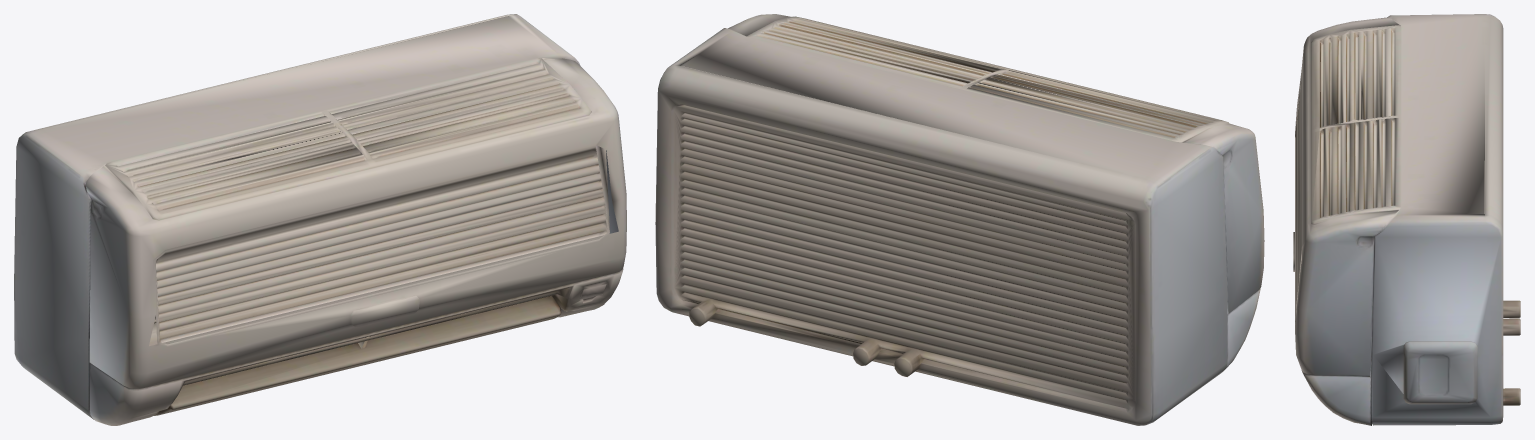
File: air_conditioner_interior_93f16672_v4.glb
3 views of the same model, side by side, from view 1: azimuth 30°, elevation 25°; view 2: azimuth 150°, elevation 25°; view 3: azimuth 270°, elevation 25° (orthographic). The views are drawn at different scales.
Parts seen in each view (by area): view 1: material; view 2: material; view 3: material.
Boxes of the visible parts, <box> form: material: <box>14,14,626,425</box>; material: <box>655,14,1264,425</box>; material: <box>1293,14,1520,425</box>.
Size of the model in its own units: 1.9 by 0.862 by 0.8464.
Materials: 1 (1 with a texture image).
